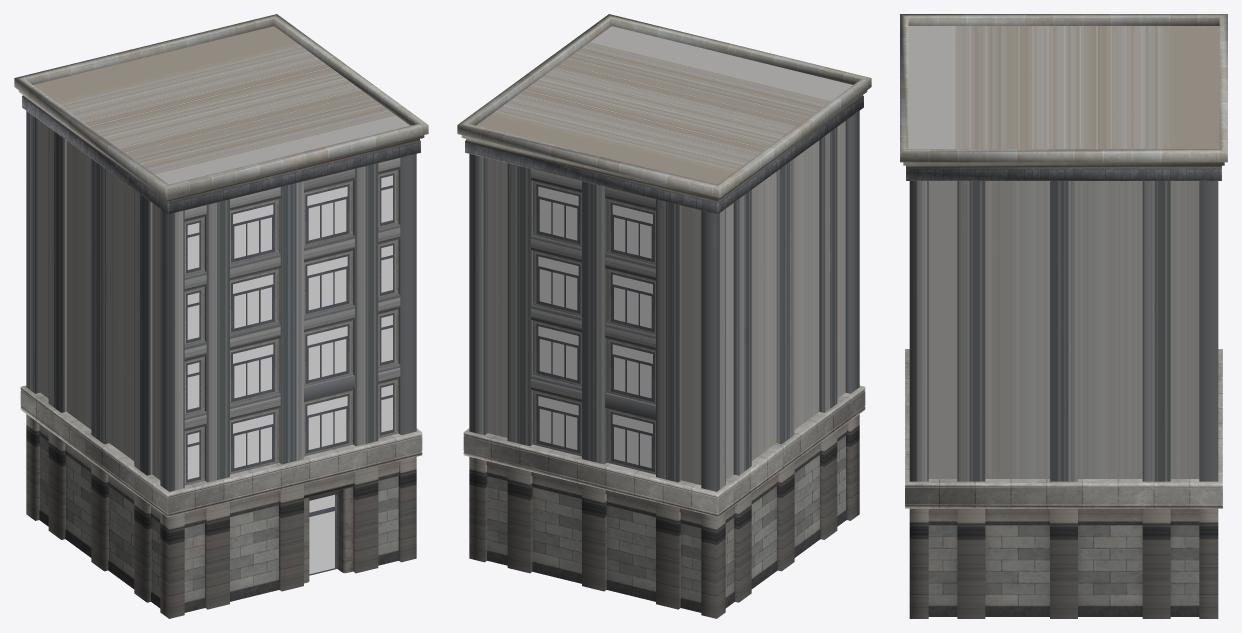
Rendered from objects_un_t06building01.gltf.
3 renders of one model, left to right at view 1: azimuth 30°, elevation 25°; view 2: azimuth 150°, elevation 25°; view 3: azimuth 270°, elevation 25°, orthographic. The views are drawn at different scales.
Visible parts, largest first — view 1: nomerge_t06building01_shape:objects_un_t06building01_01, nomerge_t06building01_shape:objects_un_t06building01_02, nomerge_t06building01_shape:objects_un_behind, um_objects_un_t06building01_model_lod0Shape:objects_un_t06bu, nomerge_door01_shape:objects_un_behind; view 2: nomerge_t06building01_shape:objects_un_t06building01_01, nomerge_t06building01_shape:objects_un_t06building01_02, nomerge_t06building01_shape:objects_un_behind, um_objects_un_t06building01_model_lod0Shape:objects_un_t06bu; view 3: nomerge_t06building01_shape:objects_un_t06building01_01, nomerge_t06building01_shape:objects_un_t06building01_02.
Boxes of the visible parts, x1,y1,x2,y2 form: nomerge_t06building01_shape:objects_un_t06building01_01: (14,14,428,618); nomerge_t06building01_shape:objects_un_t06building01_02: (33,26,409,479); nomerge_t06building01_shape:objects_un_behind: (187,175,392,479); um_objects_un_t06building01_model_lod0Shape:objects_un_t06bu: (186,173,394,482); nomerge_door01_shape:objects_un_behind: (309,494,334,574); nomerge_t06building01_shape:objects_un_t06building01_01: (457,14,871,618); nomerge_t06building01_shape:objects_un_t06building01_02: (476,26,852,484); nomerge_t06building01_shape:objects_un_behind: (538,186,652,468); um_objects_un_t06building01_model_lod0Shape:objects_un_t06bu: (536,184,654,471); nomerge_t06building01_shape:objects_un_t06building01_01: (900,14,1227,618); nomerge_t06building01_shape:objects_un_t06building01_02: (908,26,1219,478).
Size of what is drawn, in the model's own units: 12 by 19 by 12.
4 materials, 3 textured.
